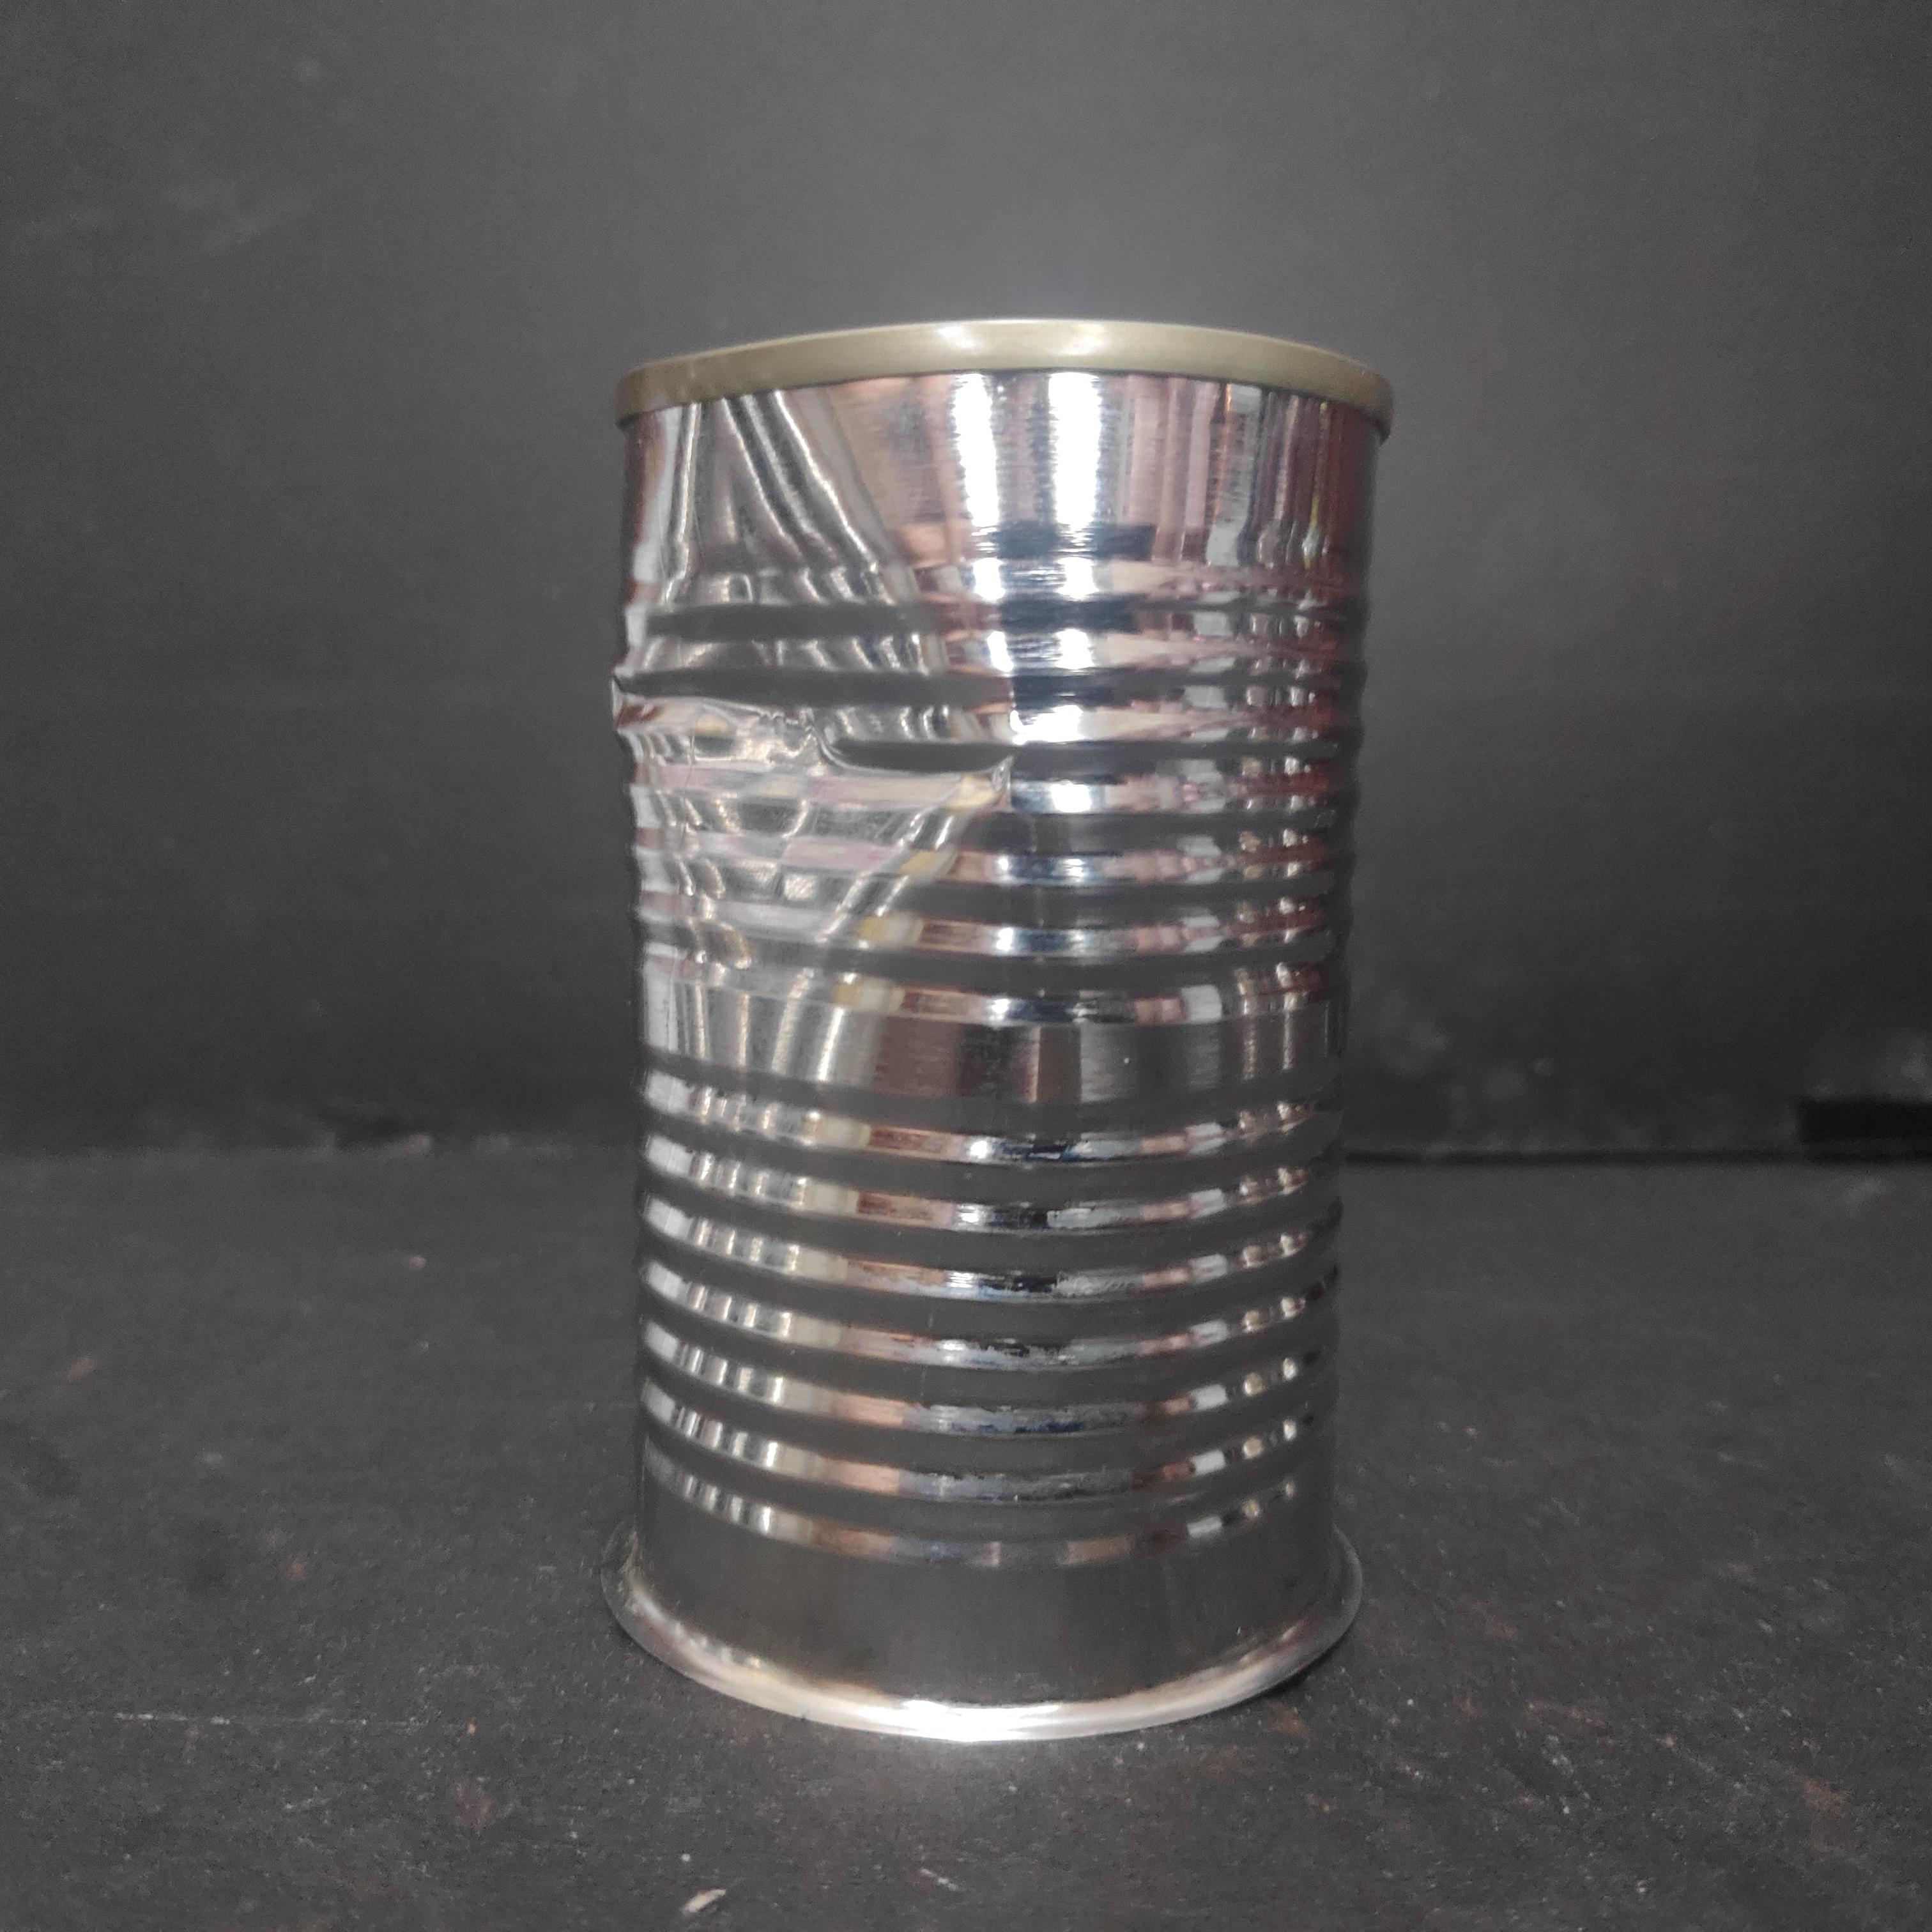Minor Defect: (593, 308, 1398, 1748)
